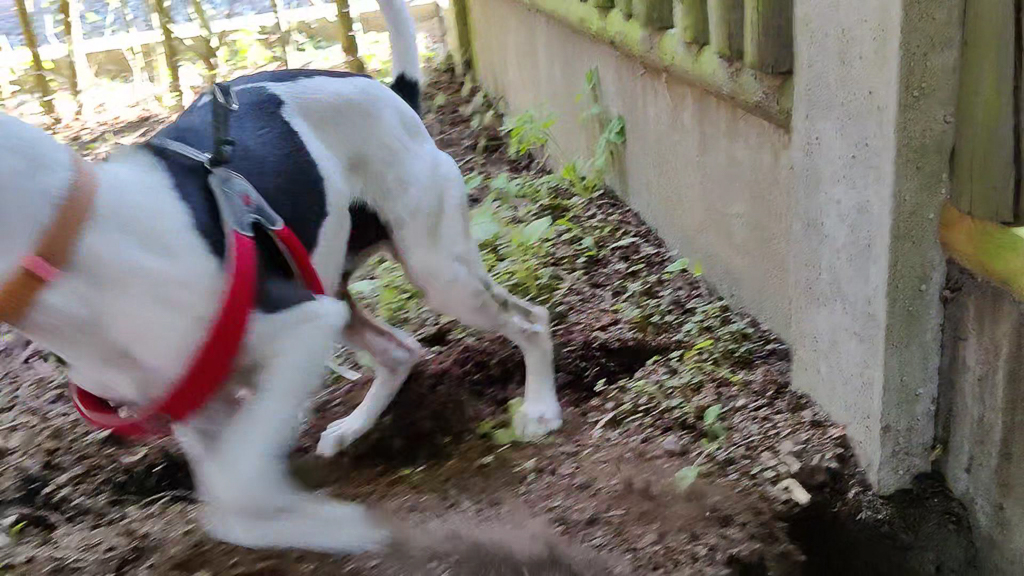Dog: (0, 0, 573, 562)
